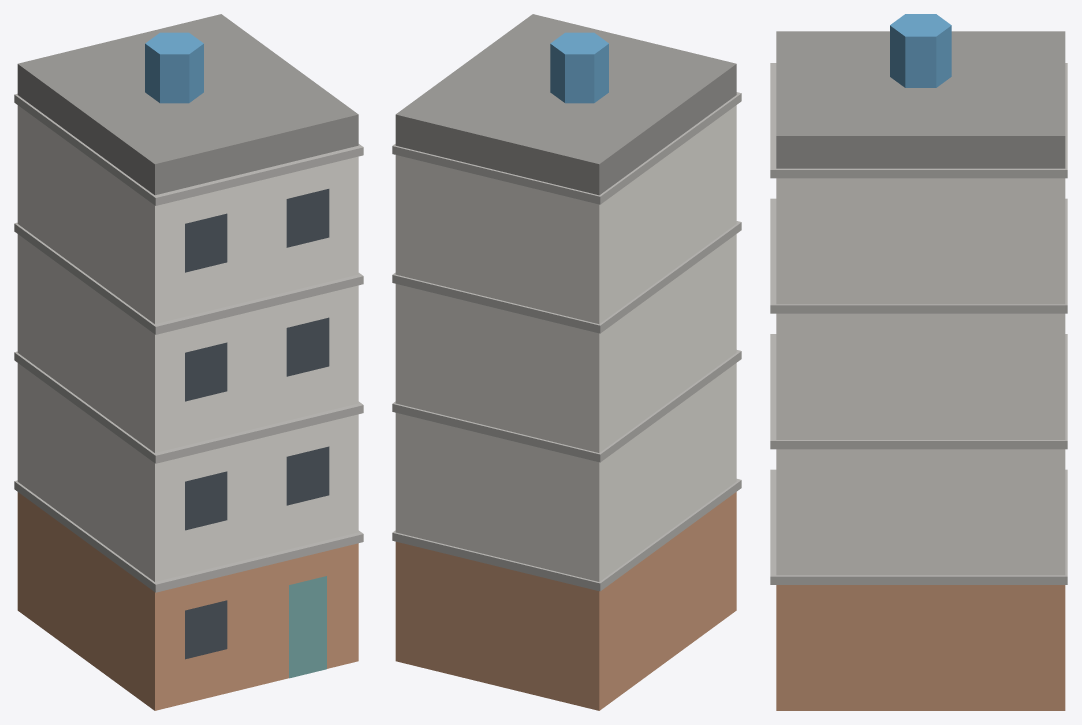
The picture shows the model from 3 angles, left to right: view 1: azimuth 30°, elevation 25°; view 2: azimuth 150°, elevation 25°; view 3: azimuth 270°, elevation 25°; orthographic projection. The views are drawn at different scales.
Visible parts, largest first — view 1: fv_h13.lod1; view 2: fv_h13.lod1; view 3: fv_h13.lod1.
Part boxes in pixels (x1,y1,x2,y2): fv_h13.lod1: [14, 14, 363, 710]; fv_h13.lod1: [392, 14, 741, 710]; fv_h13.lod1: [770, 14, 1067, 710].
Size of the model in its own units: 4.9 by 13.4 by 5.77.
